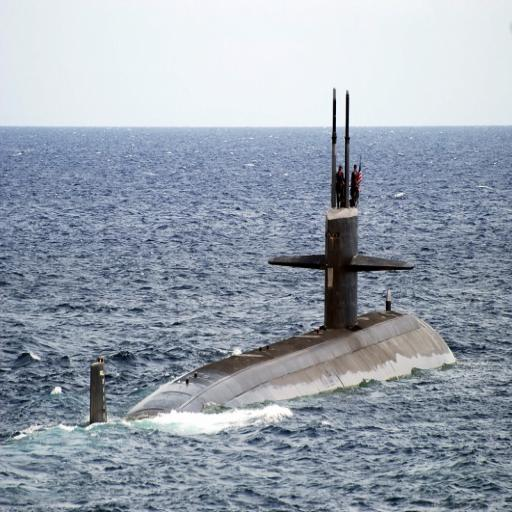submarine: (83, 87, 448, 436)
